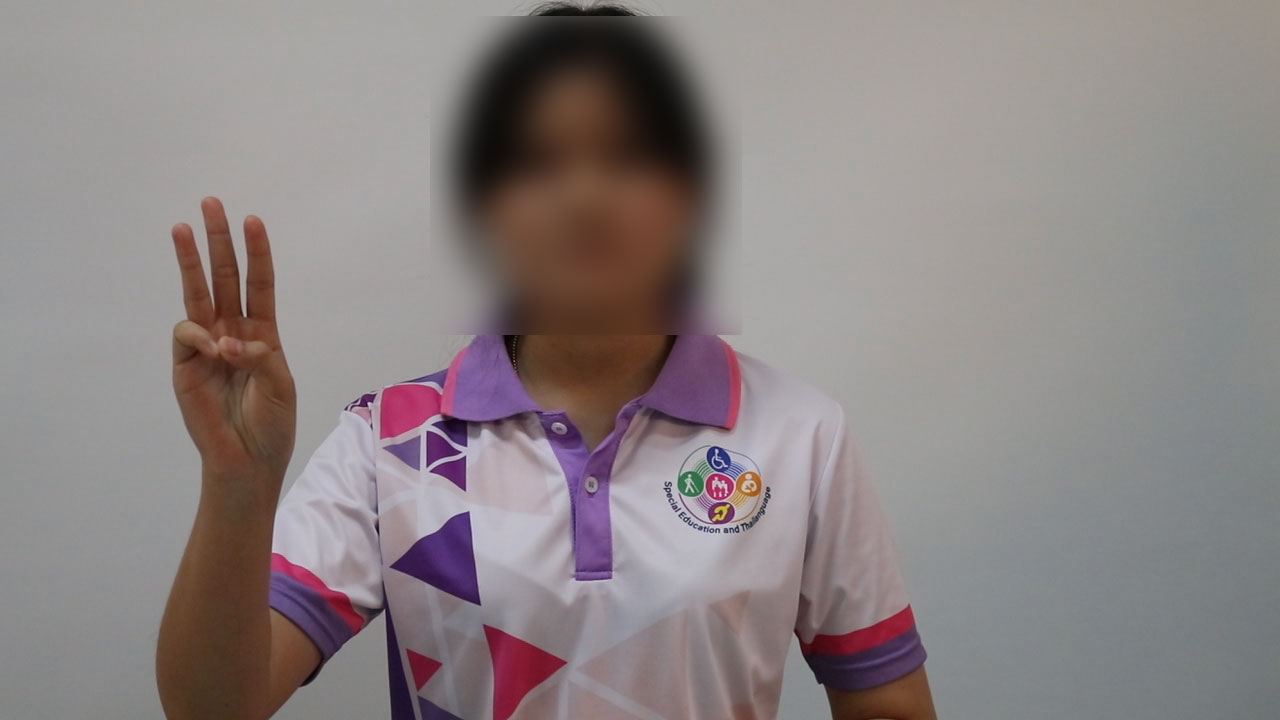wor: (158, 183, 307, 497)
